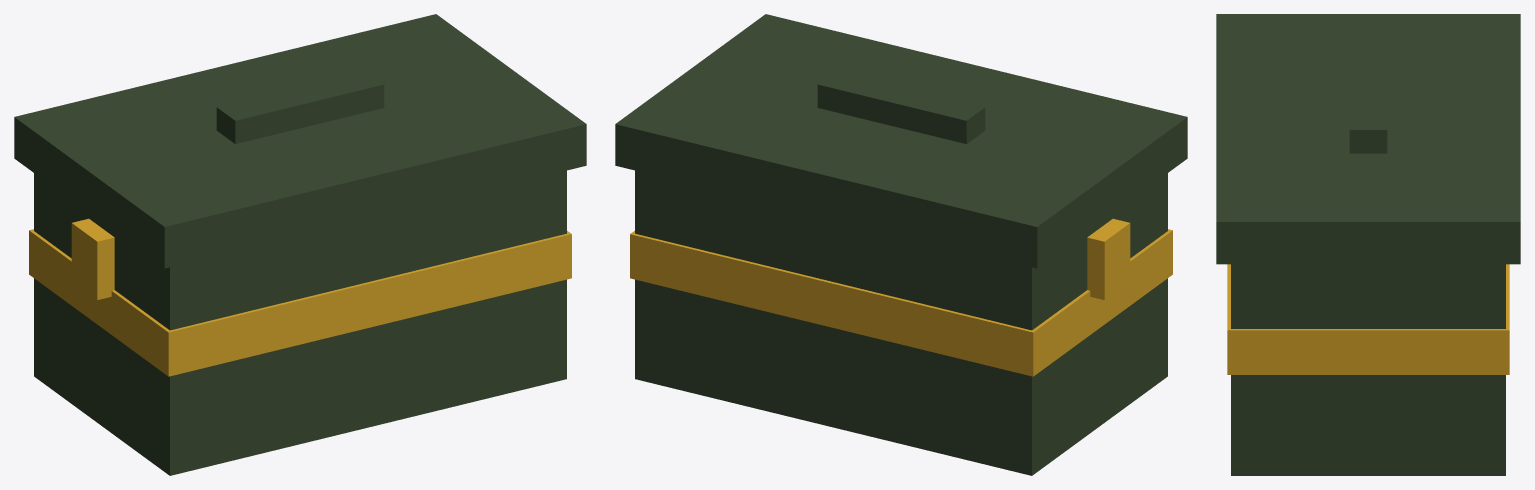
The model's file is tactical_pickups.glb.
3 renders of one model, left to right at view 1: azimuth 30°, elevation 25°; view 2: azimuth 150°, elevation 25°; view 3: azimuth 270°, elevation 25°, orthographic.
Parts seen in each view (by area): view 1: pickup_ammo_crate; view 2: pickup_ammo_crate; view 3: pickup_ammo_crate.
Boxes of the visible parts, box(x1,y1,x2,y2) form: pickup_ammo_crate: box(14, 14, 586, 475); pickup_ammo_crate: box(615, 14, 1187, 475); pickup_ammo_crate: box(1216, 14, 1520, 475).
Size of the model in its own units: 0.344 by 0.217 by 0.21.
